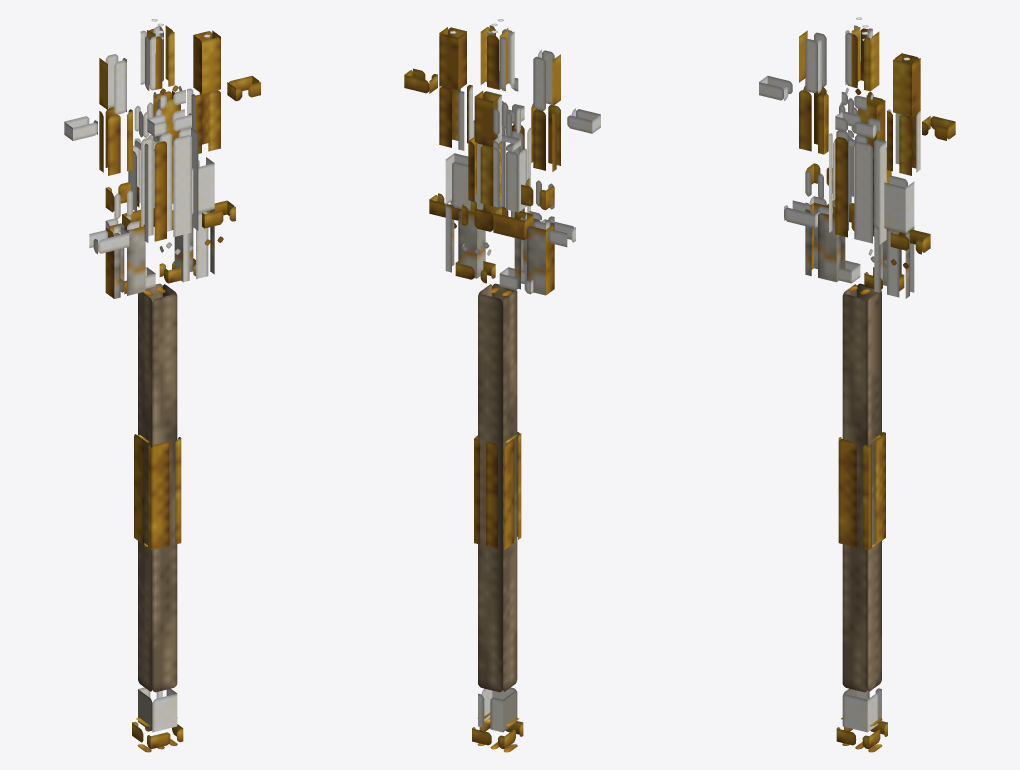
The model's file is seraph_staff.obj.
3 views of the same model, side by side, from view 1: azimuth 30°, elevation 25°; view 2: azimuth 150°, elevation 25°; view 3: azimuth 330°, elevation 25° (orthographic).
Visible parts, largest first — view 1: lit, fire; view 2: lit, fire; view 3: lit, fire.
Part boxes in pixels (x1,y1,x2,y2): lit: [64, 19, 260, 752]; fire: [141, 85, 198, 242]; lit: [404, 19, 600, 752]; fire: [473, 78, 530, 217]; lit: [759, 17, 955, 752]; fire: [829, 87, 886, 244].
Size of the model in its own units: 1.5 by 3.46 by 0.2344.
